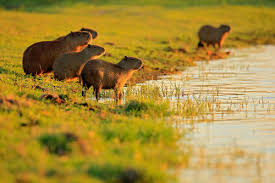capivara: (22, 30, 93, 77), (80, 56, 144, 102), (53, 44, 107, 86), (199, 24, 233, 50)
